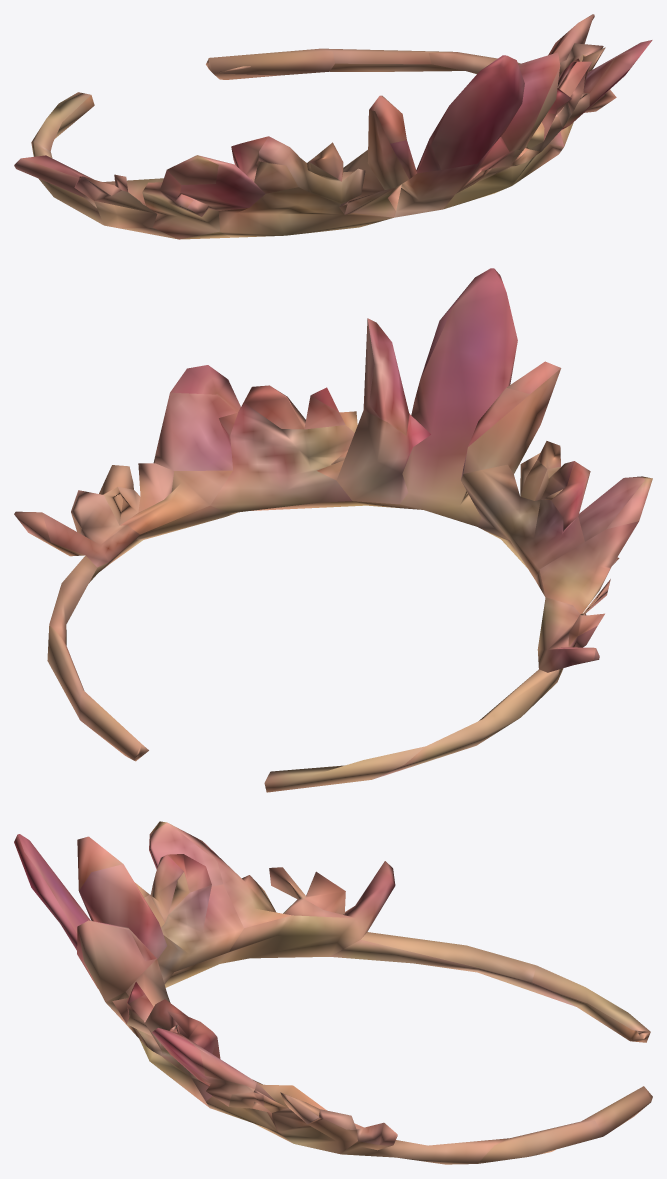
3 renders of one model, top to bottom at view 1: azimuth 30°, elevation 25°; view 2: azimuth 150°, elevation 25°; view 3: azimuth 270°, elevation 25°, orthographic. The views are drawn at different scales.
Visible parts, largest first — view 1: Pink-Tiara-01; view 2: Pink-Tiara-01; view 3: Pink-Tiara-01.
Part boxes in pixels (x1,y1,x2,y2): Pink-Tiara-01: [14, 14, 652, 239]; Pink-Tiara-01: [14, 268, 652, 792]; Pink-Tiara-01: [14, 821, 652, 1164].
Bounding box in the file's own units: 0.2812 × 0.1237 × 0.2765.
1 material, 1 textured.
